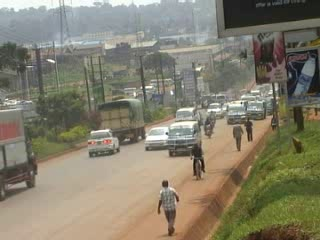Car: (84, 127, 121, 158), (142, 125, 172, 151), (204, 101, 223, 119), (219, 99, 233, 116)
Motorcycle: (203, 117, 214, 141)
